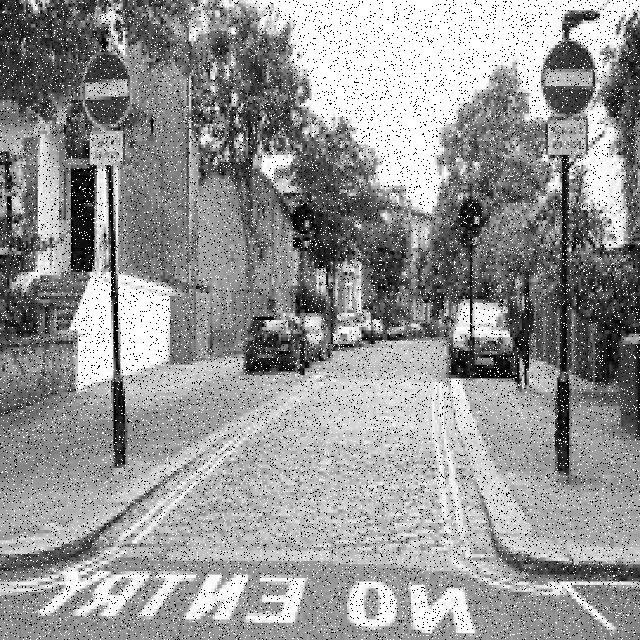no entry: (546, 38, 595, 113), (90, 52, 128, 127)
